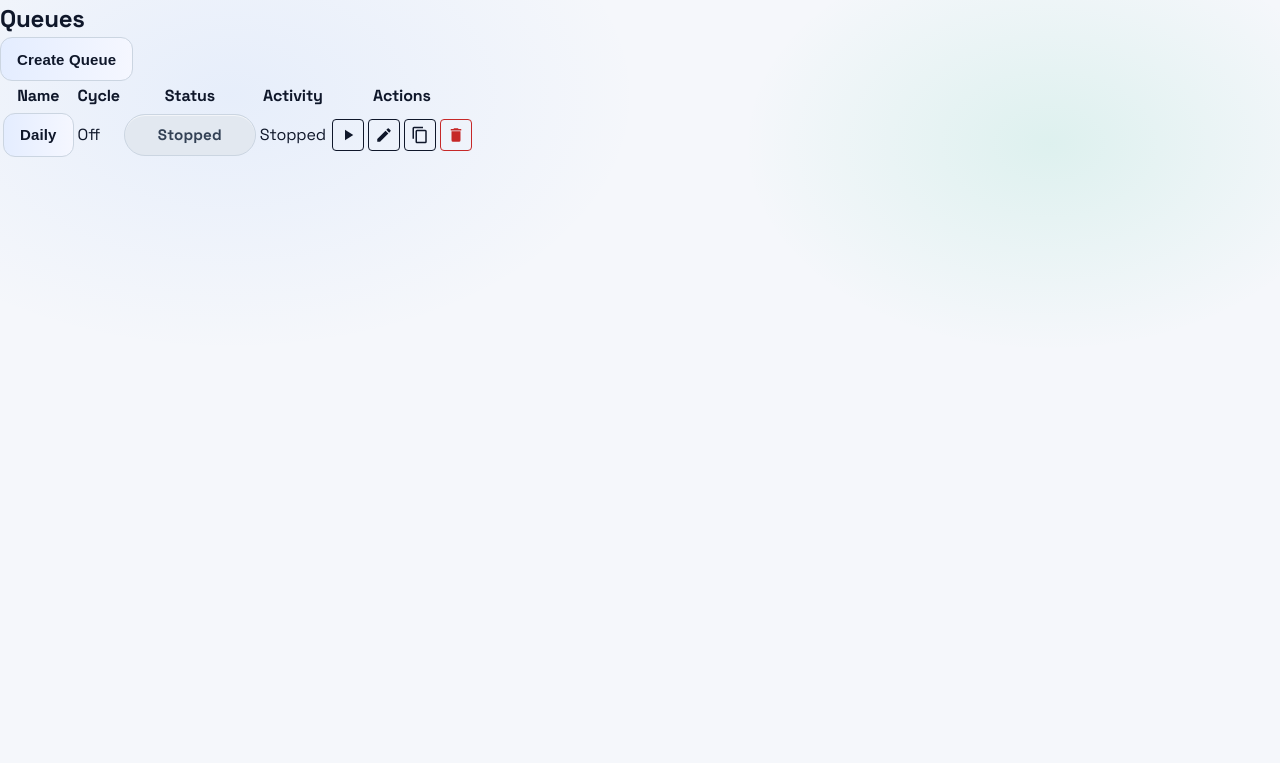
Test: Edit page of a running queue (feature 173, US1) › does not show the settings note for a stopped queue
Click the button "Daily" at [38, 135], box [3,113,74,157]
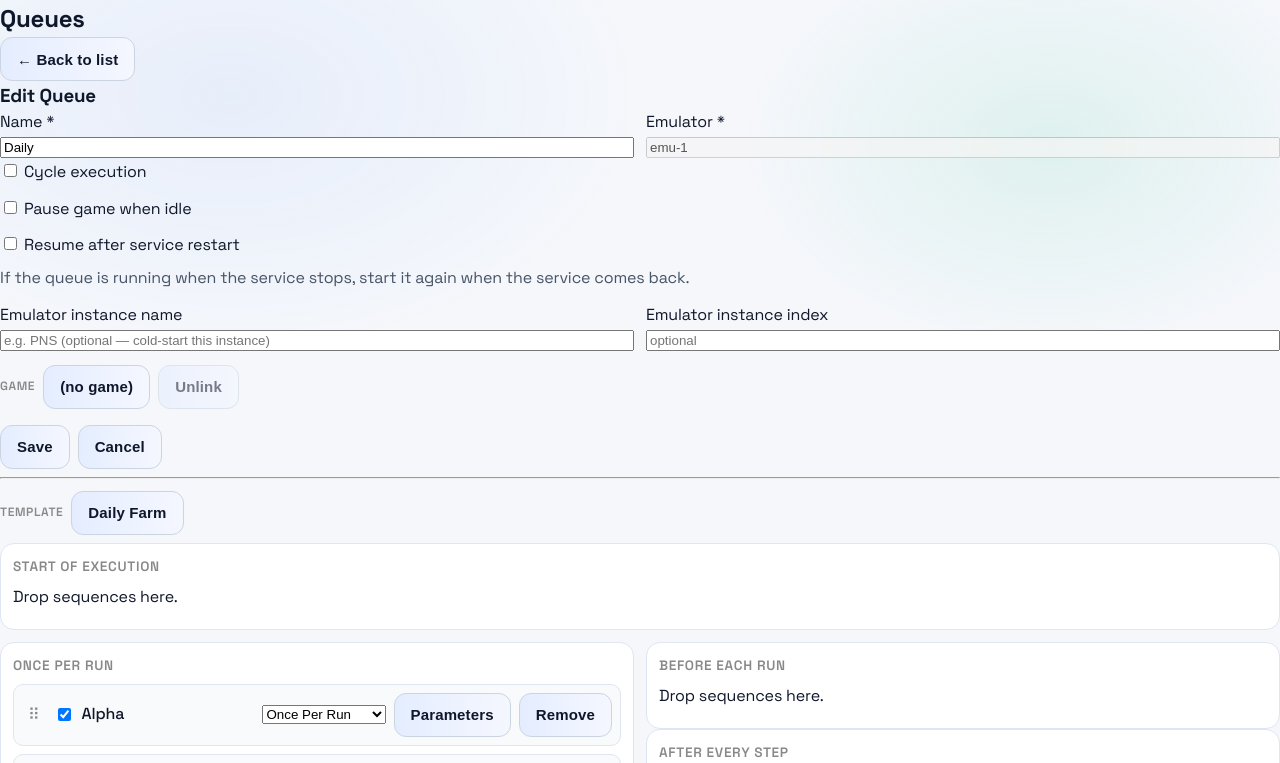
Expected: the heading "Edit Queue" is shown, [0,84,96,107]
